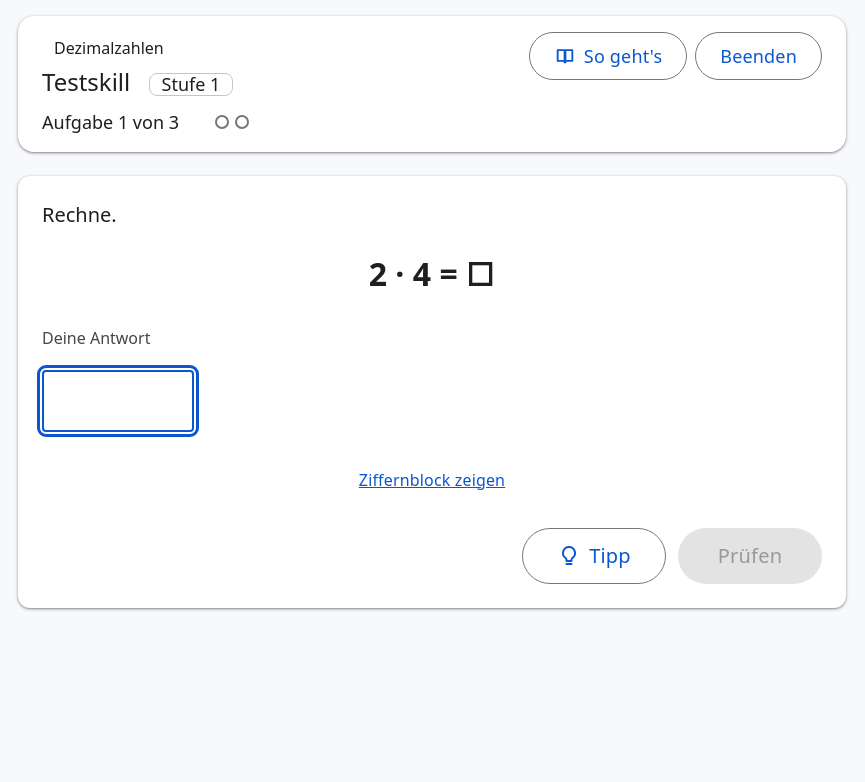
it: PracticePage: item flow › 1st wrong → bug hint, retry; 2nd try correct → effort praise, not first-try
Expected: the button "Prüfen" is shown, [678,528,822,584]
Type "10" into the field labelled "Deine Antwort" at (118, 401), box [42,370,194,432]
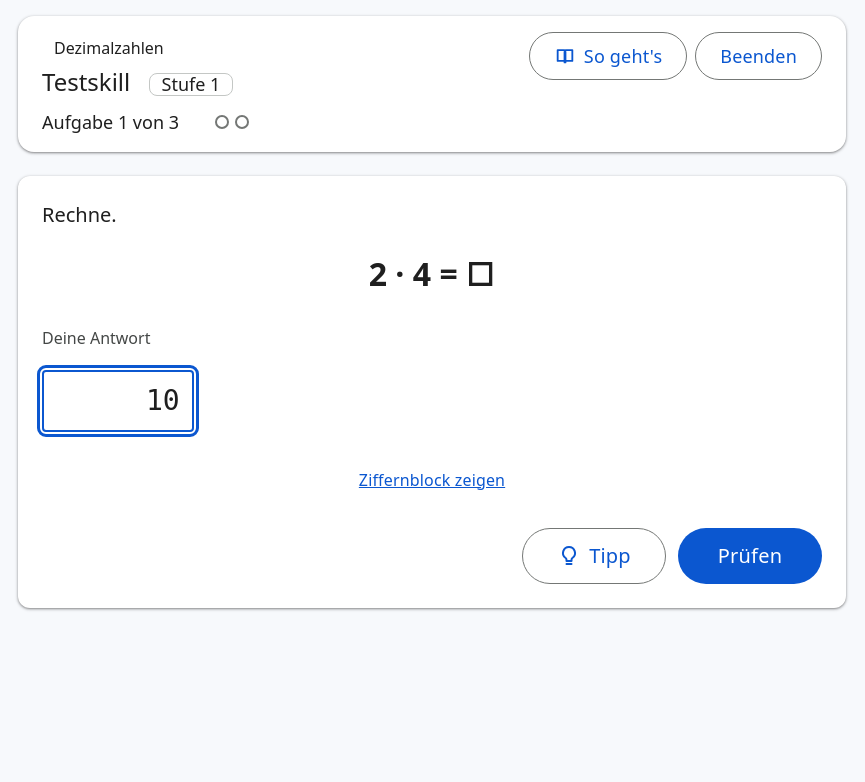
Click the button "Prüfen" at (750, 556), box [678,528,822,584]
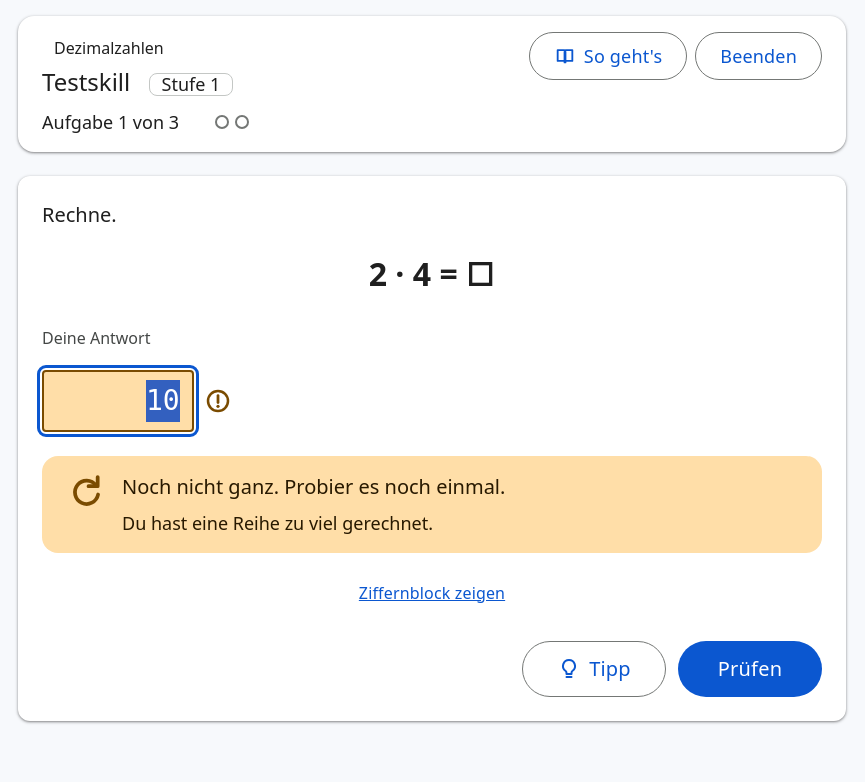
Result: the text "Noch nicht ganz. Probier es noch einmal." is shown at [122,473,505,500]
Result: the text "Du hast eine Reihe zu viel gerechnet." is shown at [122,511,433,535]
Replace the text in the field labelled "Deine Antwort" with "8" at (118, 401), box [42,370,194,432]
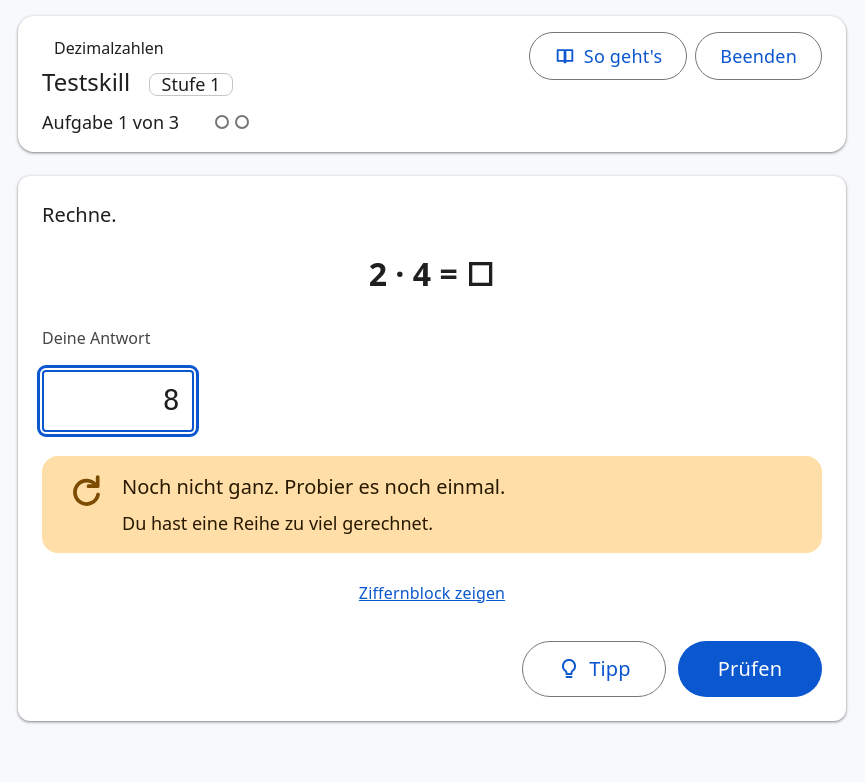
Click the button "Prüfen" at (750, 669), box [678,641,822,697]
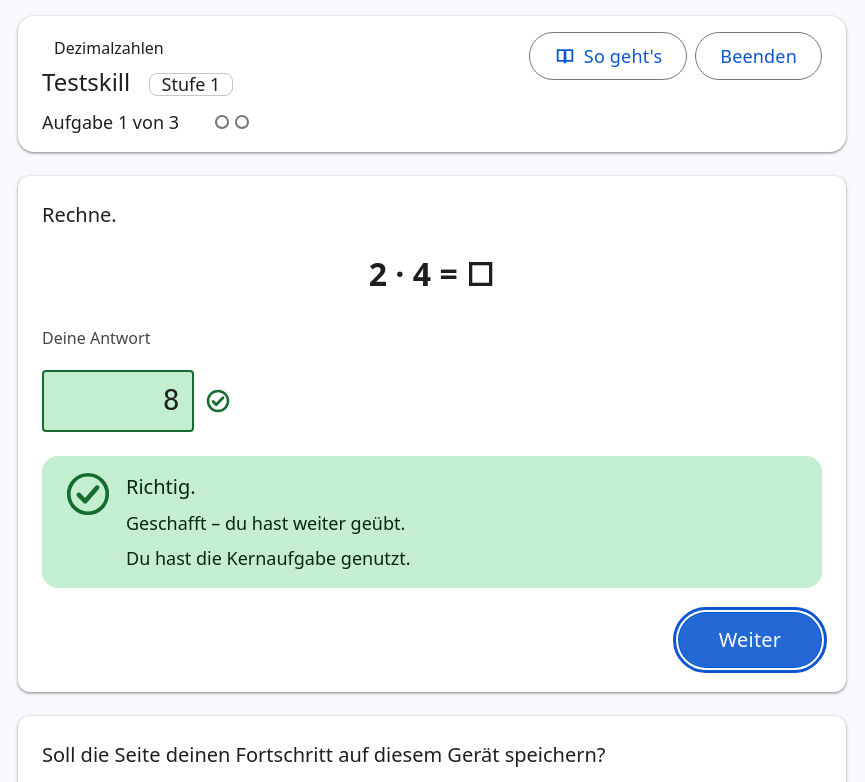
Result: the text "Richtig." is shown at [126,473,196,500]
Result: the text "Geschafft – du hast weiter geübt." is shown at [126,511,405,535]
